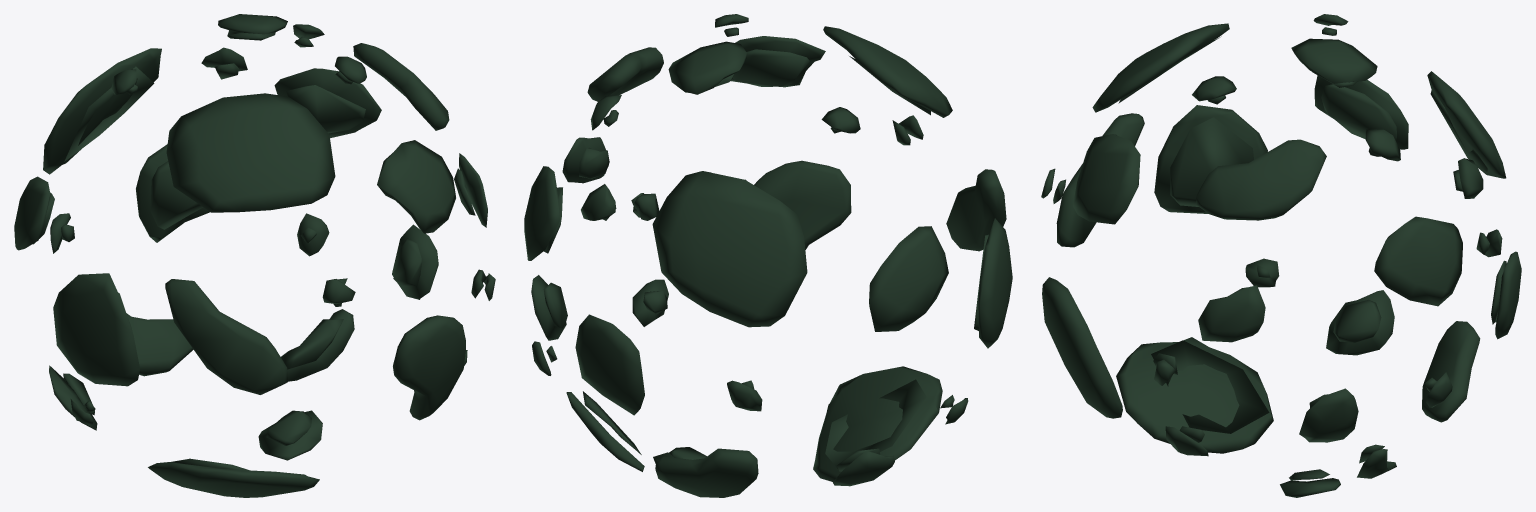
The model's file is Planet_Acc_S_Continents.fbx.
3 views of the same model, side by side, from view 1: azimuth 30°, elevation 25°; view 2: azimuth 150°, elevation 25°; view 3: azimuth 270°, elevation 25° (orthographic). The views are drawn at different scales.
Visible parts, largest first — view 1: SmallContinentsNew; view 2: SmallContinentsNew; view 3: SmallContinentsNew.
Part boxes in pixels (x1,y1,x2,y2): SmallContinentsNew: [14, 14, 495, 497]; SmallContinentsNew: [524, 14, 1012, 497]; SmallContinentsNew: [1041, 14, 1521, 497].
Size of the model in its own units: 2.03 by 2.03 by 2.03.
